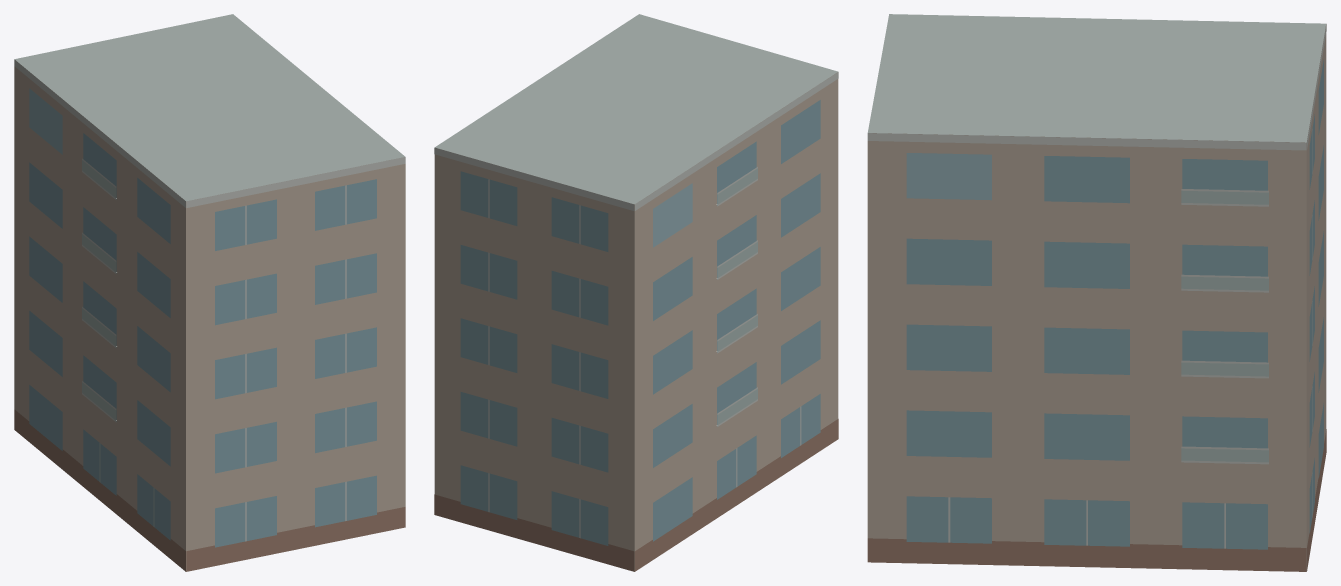
The model's file is survey-upis-32976614.glb.
3 renders of one model, left to right at view 1: azimuth 30°, elevation 25°; view 2: azimuth 150°, elevation 25°; view 3: azimuth 270°, elevation 25°, orthographic. The views are drawn at different scales.
Visible parts, largest first — view 1: survey-upis-32976614.tmp; view 2: survey-upis-32976614.tmp; view 3: survey-upis-32976614.tmp.
Part boxes in pixels (x1,y1,x2,y2): survey-upis-32976614.tmp: (14,14,405,571); survey-upis-32976614.tmp: (434,14,838,571); survey-upis-32976614.tmp: (867,14,1326,571).
Bounding box in the file's own units: 8.42 × 13.1 × 12.69.
